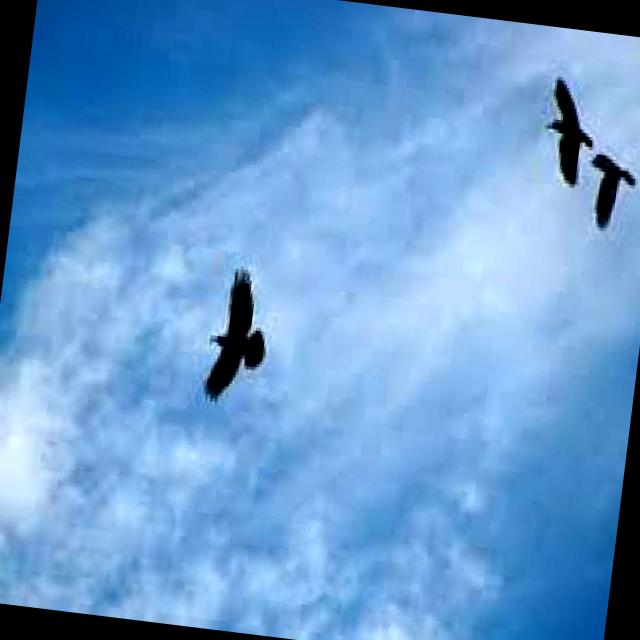bird: (180, 256, 292, 416), (526, 58, 604, 201), (582, 130, 640, 244)
